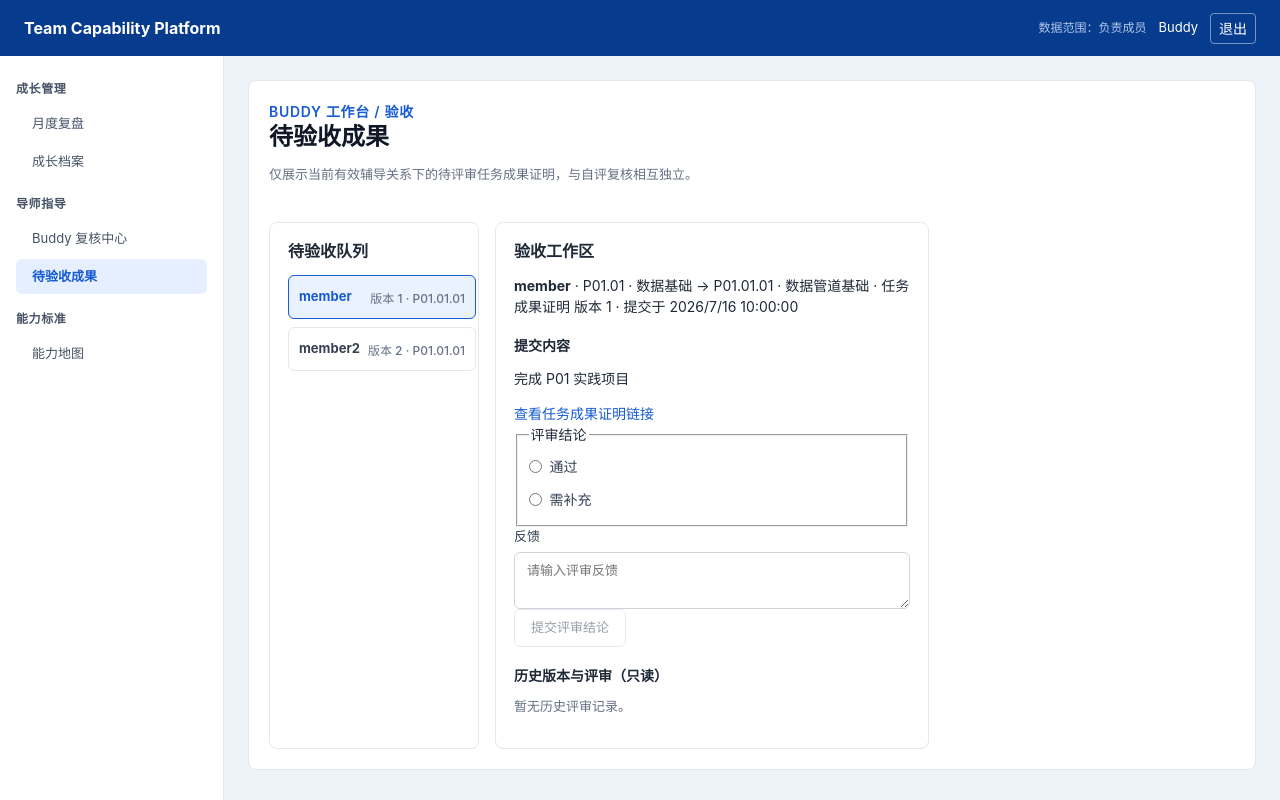
Test: EvidenceReviewPage — standalone Buddy evidence queue › a late history response for the previous item never appears under the current item
Expected: the heading "待验收成果" is shown, [269,122,389,151]
Click the button "member2 版本 2 · P01.01.01": (382, 348) [288,326,476,370]
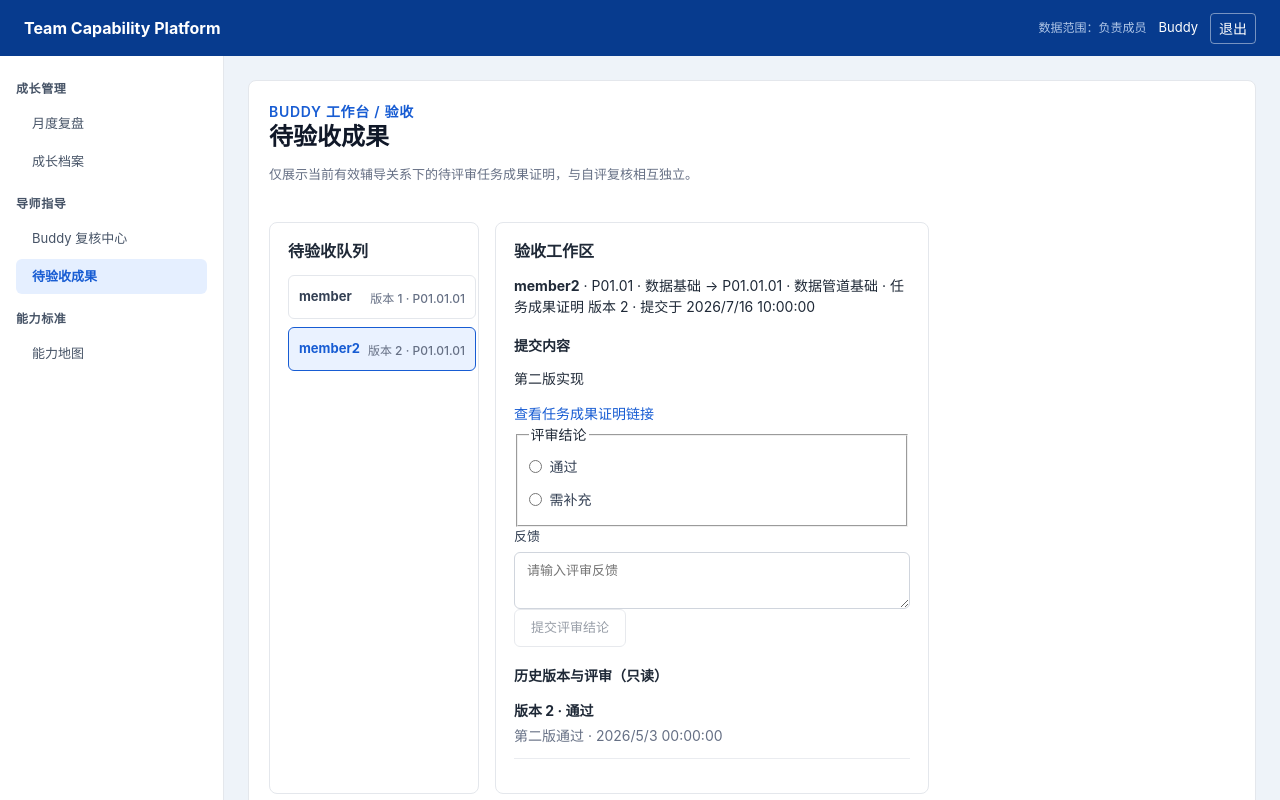
Expected: the text "第二版通过 · 2026/5/3 00:00:00" is shown, [514,727,723,744]
